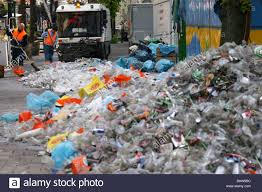garbage: (88, 82, 206, 174), (208, 49, 259, 174), (44, 63, 206, 80), (38, 102, 87, 133), (53, 139, 86, 163), (130, 45, 175, 62)
